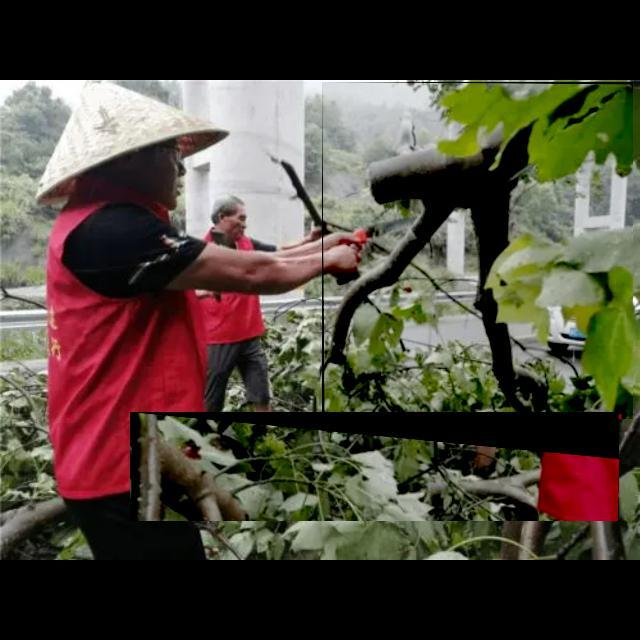fallen_tree: (322, 82, 634, 420), (130, 412, 620, 522)
